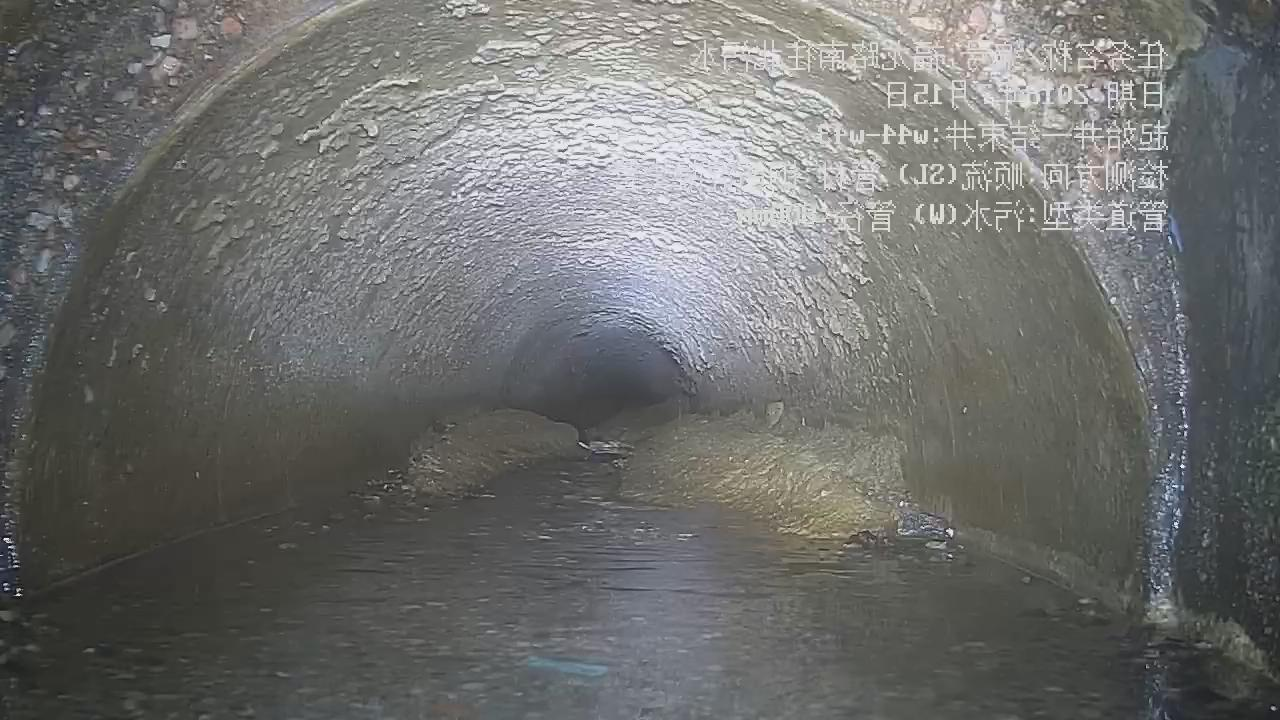JG: (172, 0, 891, 392), (404, 402, 954, 541)
